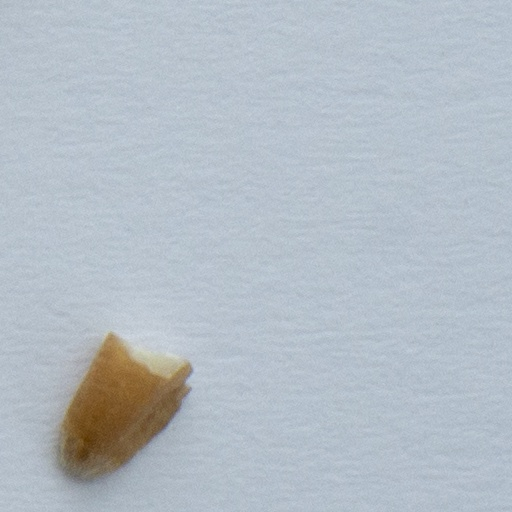Wheat-grain-damaged-poly: (54, 330, 195, 479)
